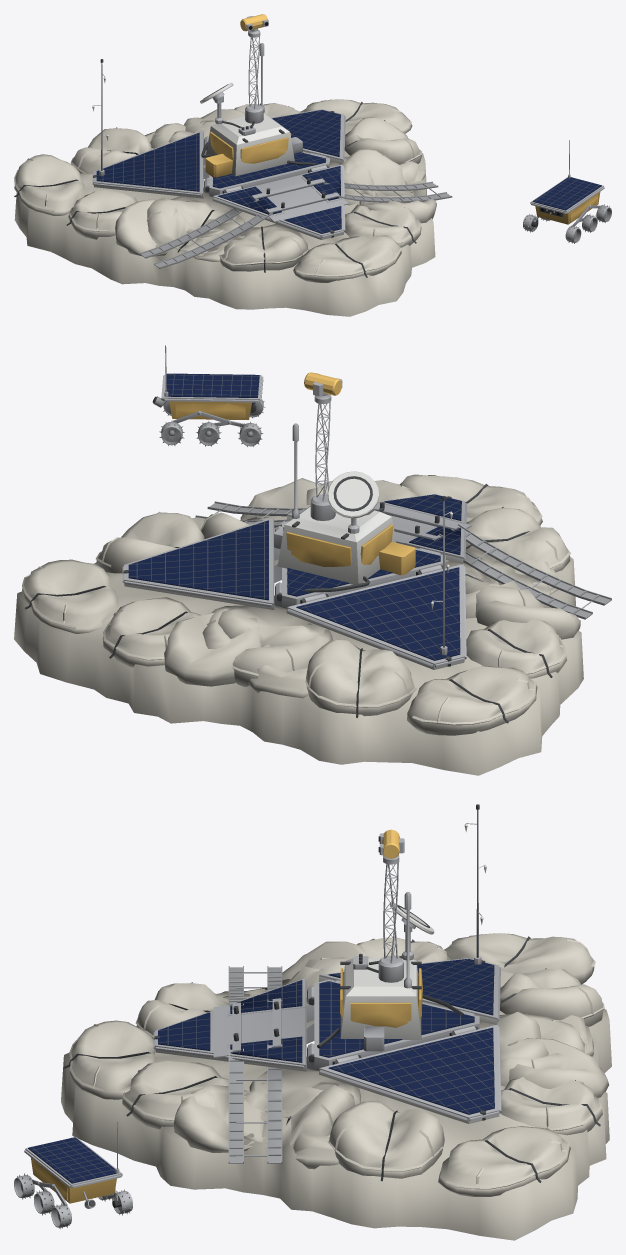
Rendered from pathfinder.glb.
The picture shows the model from 3 angles, top to bottom: view 1: azimuth 30°, elevation 25°; view 2: azimuth 150°, elevation 25°; view 3: azimuth 270°, elevation 25°; orthographic projection. The views are drawn at different scales.
Visible parts, largest first — view 1: pathfinder_mesh, sojourner_mesh; view 2: pathfinder_mesh, sojourner_mesh; view 3: pathfinder_mesh, sojourner_mesh.
Part boxes in pixels (<box>): pathfinder_mesh: <box>14,14,452,316</box>; sojourner_mesh: <box>523,140,611,243</box>; pathfinder_mesh: <box>14,372,611,775</box>; sojourner_mesh: <box>152,345,265,446</box>; pathfinder_mesh: <box>61,804,611,1240</box>; sojourner_mesh: <box>14,1121,132,1229</box>.
Size of the model in its own units: 4.05 by 1.84 by 3.54.
